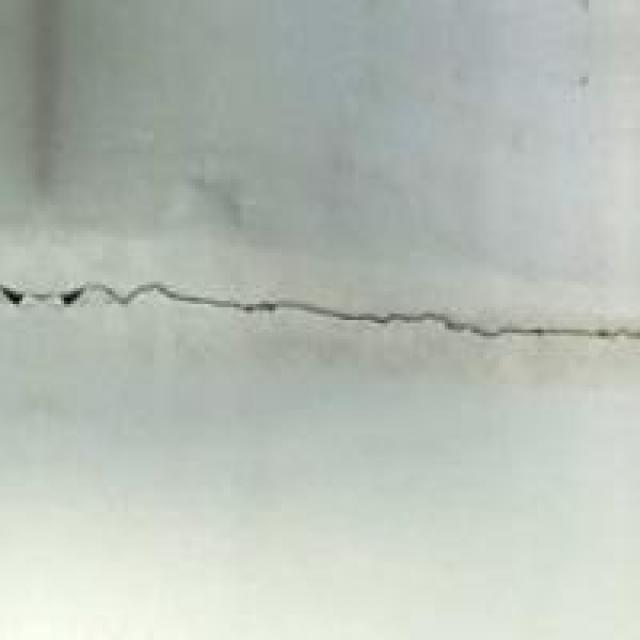crack: (0, 218, 634, 400)
